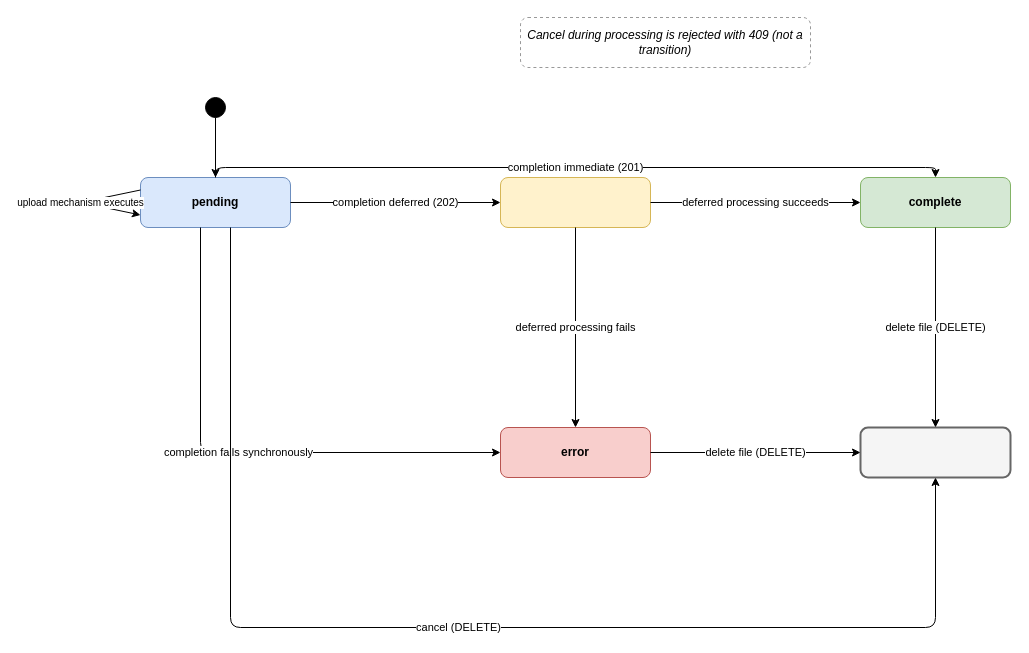
This 1029x653 diagram has some shape labels left out. The box of each missing label's shape, as (x1, y1, x2, y2) in pixels:
canceled (terminal): (859, 426, 1011, 478)
processing: (500, 176, 650, 228)
